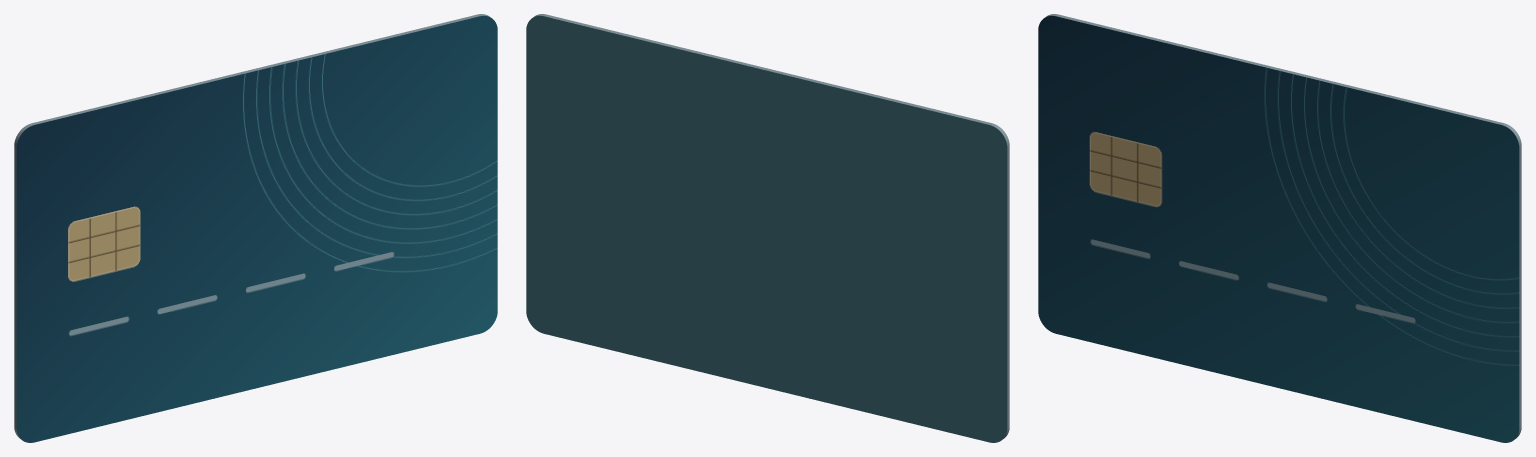
The model's file is earth3d-credit-card.glb.
The picture shows the model from 3 angles, left to right: view 1: azimuth 30°, elevation 25°; view 2: azimuth 150°, elevation 25°; view 3: azimuth 330°, elevation 25°; orthographic projection.
Visible parts, largest first — view 1: ID-1 card front, ID-1 card edge; view 2: ID-1 card back, ID-1 card edge; view 3: ID-1 card front, ID-1 card edge.
Part boxes in pixels (box(x1,y1,x2,y2)): ID-1 card front: box(16, 15, 497, 442); ID-1 card edge: box(14, 14, 490, 438); ID-1 card back: box(526, 15, 1007, 442); ID-1 card edge: box(533, 14, 1009, 438); ID-1 card front: box(1038, 15, 1519, 442); ID-1 card edge: box(1045, 14, 1521, 438).
Size of the model in its own units: 0.0856 by 0.054 by 0.00076.
3 materials, 1 textured.
